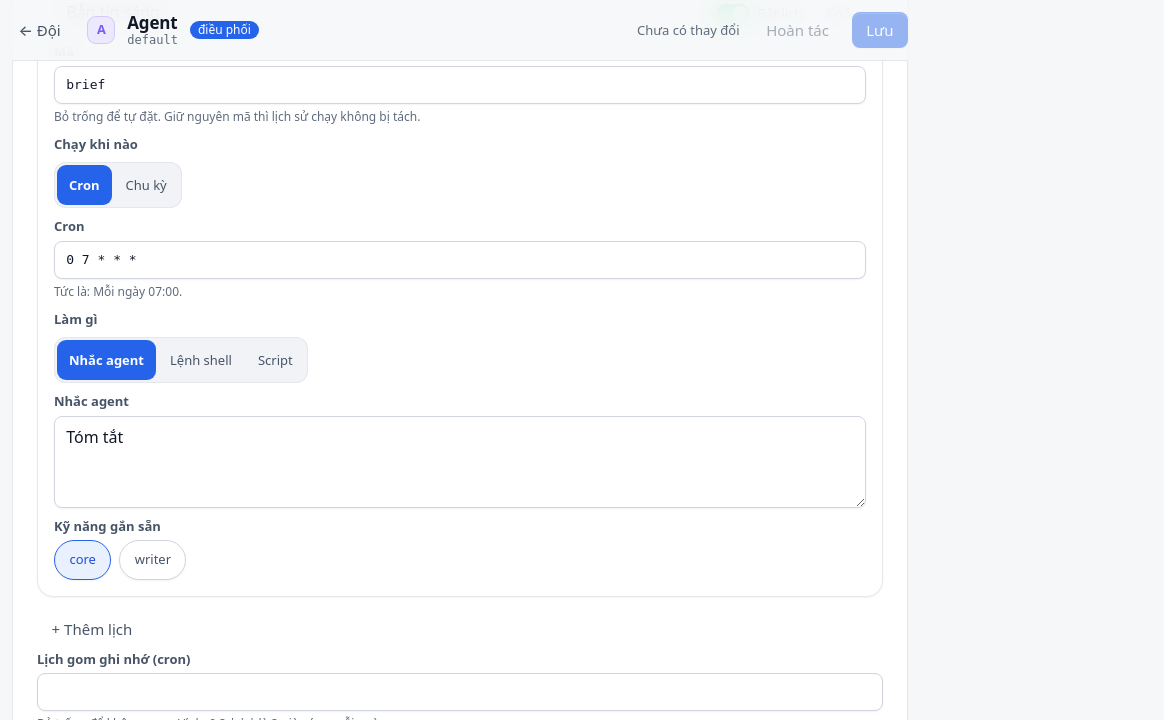
Test: switching what a schedule does › never carries one kind's words into another kind's box
The width and height of the screenshot is (1164, 720).
(page scrolled)
Click the button "Script": (275, 360) [246,340,305,380]
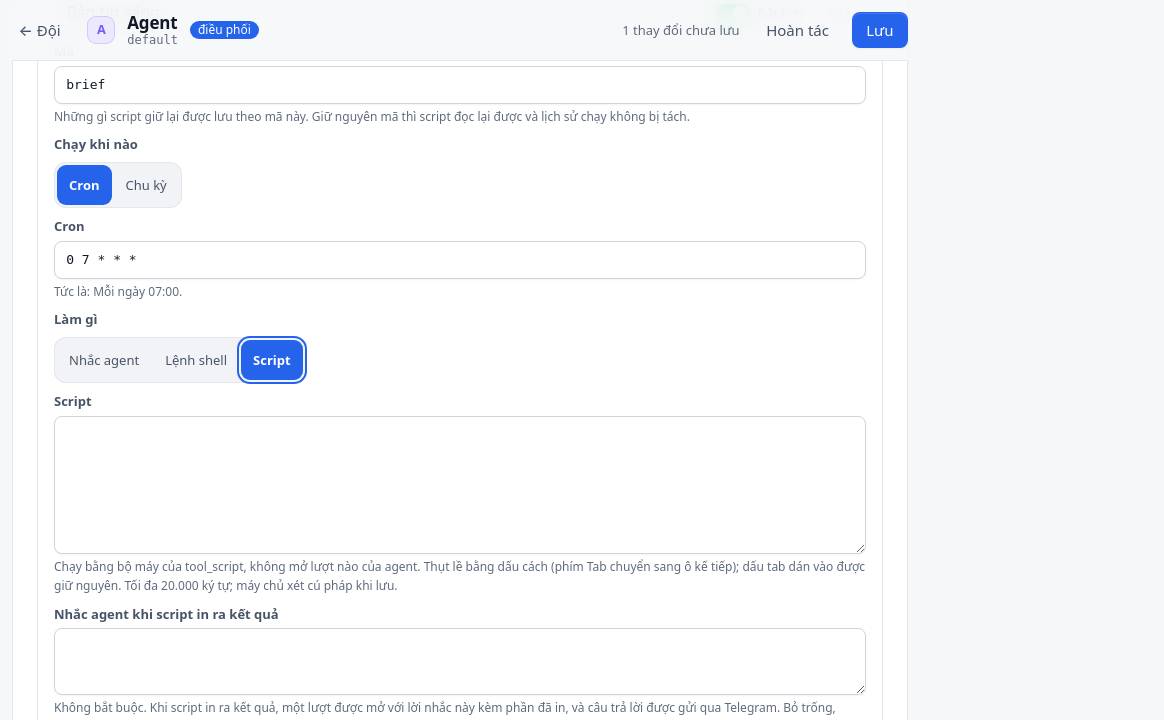
Expected: the text box labelled "Script" is empty
Expected: the text box labelled "Nhắc agent khi script in ra kết quả" is empty, [54,628,866,695]
In the text box labelled "Script": (460, 485) [54,416,866,554], type "print(2)"
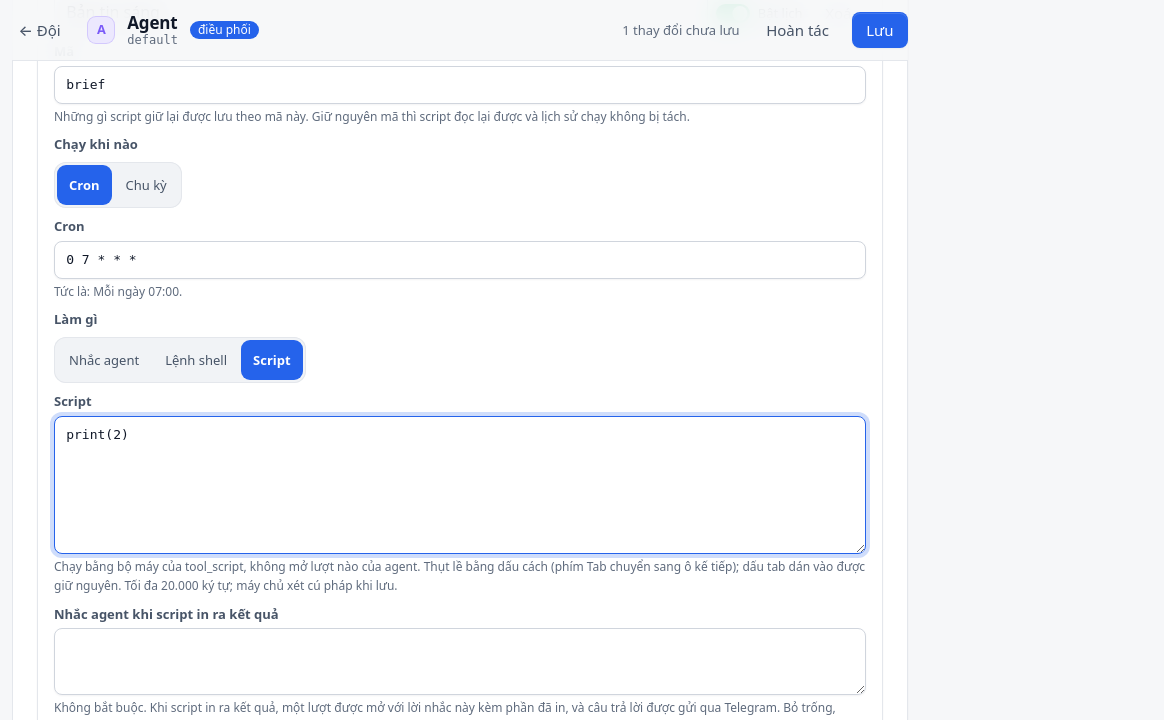
In the text box labelled "Nhắc agent khi script in ra kết quả": (460, 662) [54,628,866,695], type "Báo kết quả"
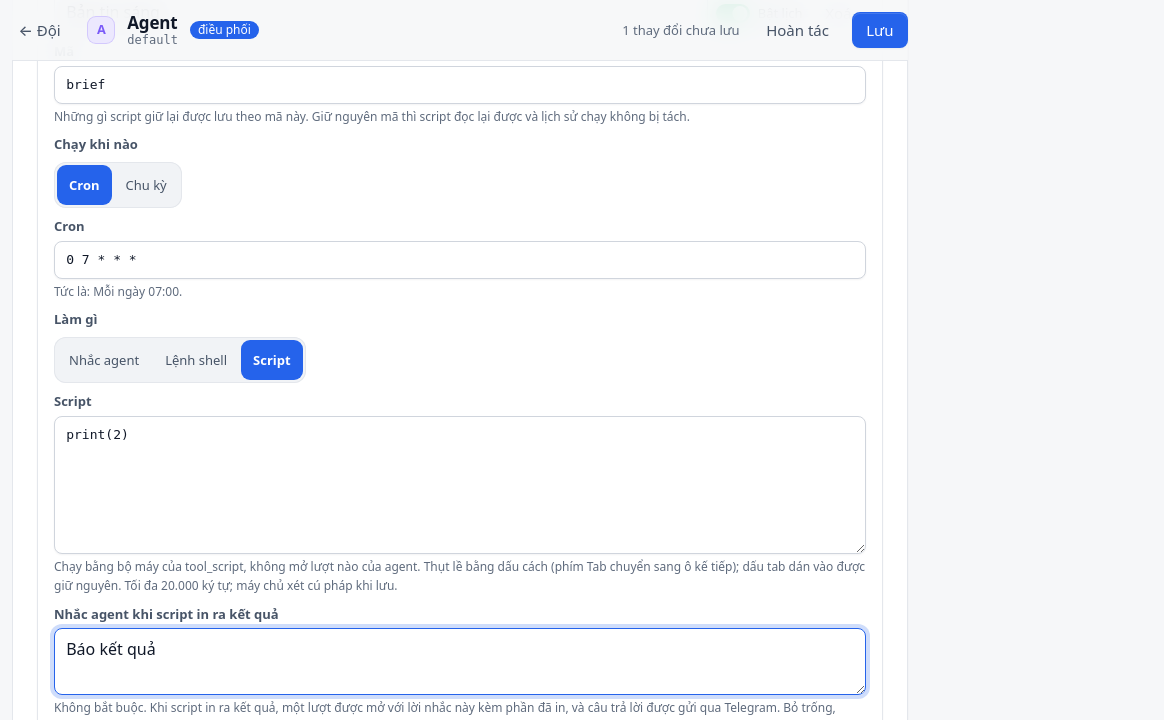
Click the button "Lệnh shell": (196, 360) [153,340,239,380]
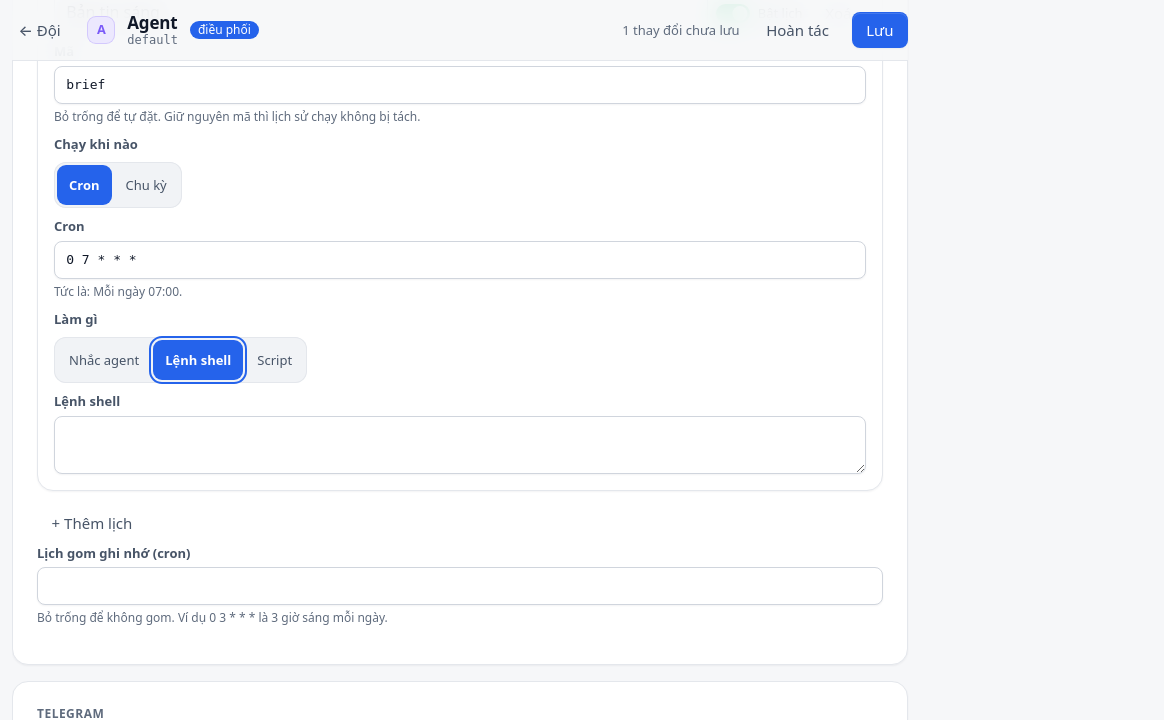
Expected: the text box labelled "Lệnh shell" is empty
Expected: the text labelled "Nhắc agent khi script in ra kết quả" is gone
In the text box labelled "Lệnh shell": (460, 445) [54,416,866,474], type "make backup"
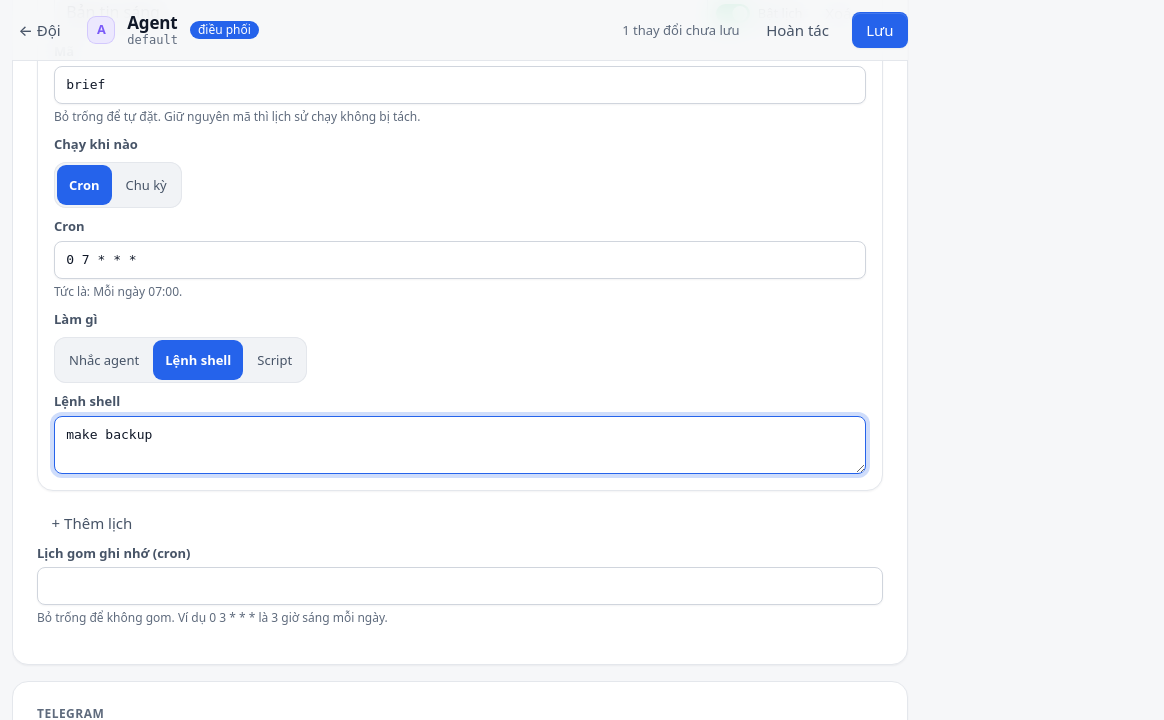
Click the button "Nhắc agent": (104, 360) [57,340,151,380]
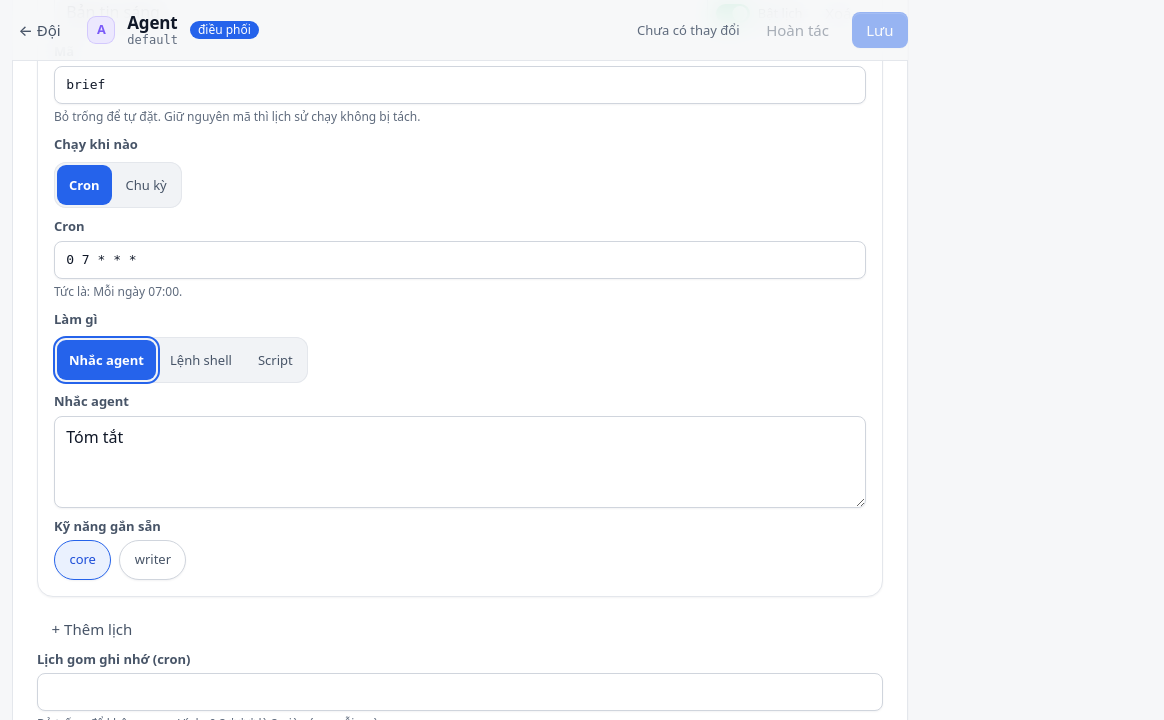
Expected: the text box labelled "Nhắc agent" holds "Tóm tắt", [54,416,866,508]
